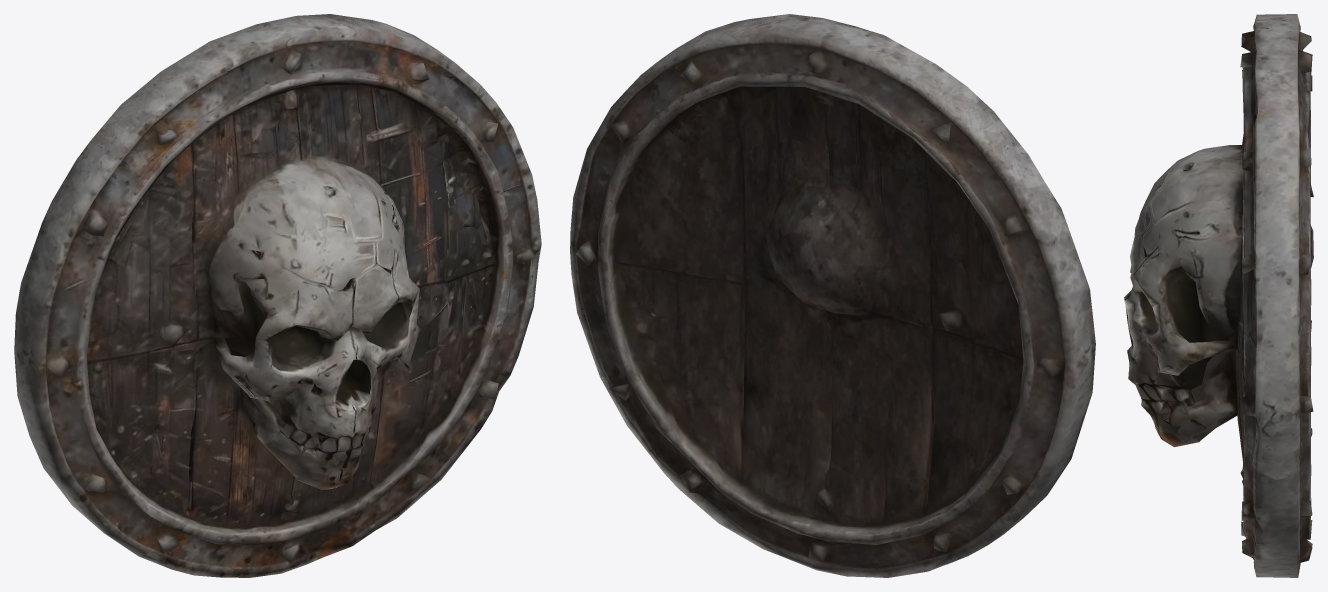
File: Sk_Shield-Cmv0ZbaL.glb
The picture shows the model from 3 angles, left to right: view 1: azimuth 30°, elevation 25°; view 2: azimuth 150°, elevation 25°; view 3: azimuth 270°, elevation 25°; orthographic projection. The views are drawn at different scales.
Parts seen in each view (by area): view 1: Sk_Shield; view 2: Sk_Shield; view 3: Sk_Shield.
Boxes of the visible parts, x1,y1,x2,y2 form: Sk_Shield: [14, 14, 541, 577]; Sk_Shield: [570, 14, 1095, 577]; Sk_Shield: [1124, 14, 1313, 577].
Bounding box in the file's own units: 1.13 × 1.13 × 0.3775.
1 material, 1 textured.
